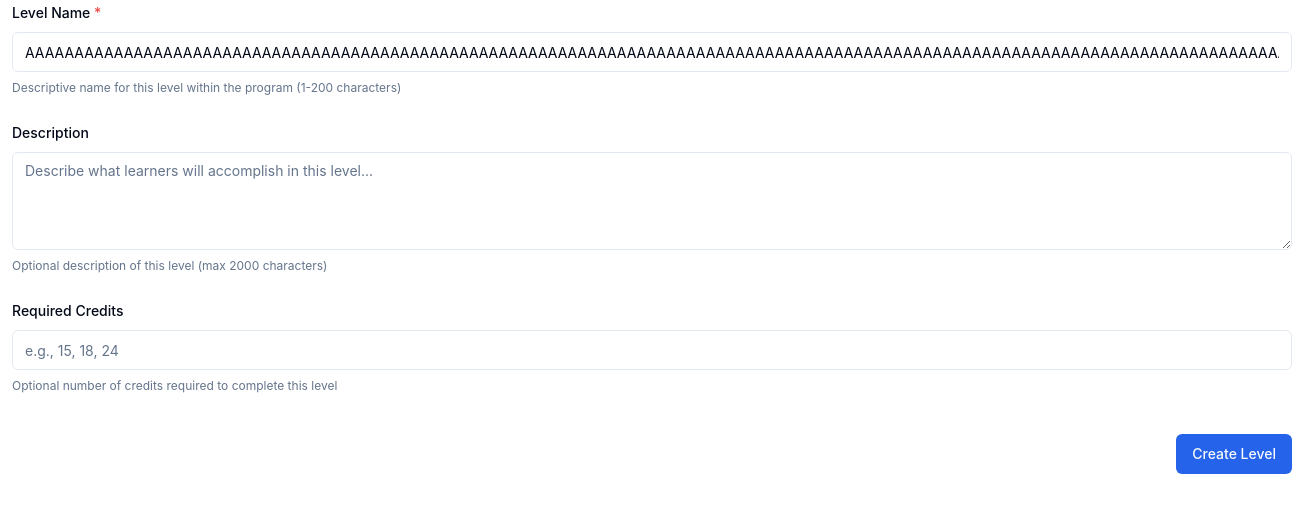
Scenario: ProgramLevelForm › Form Validation › should validate name max length (200 characters)
Click the button "Create Level": [1234, 454] box [1176,434,1292,474]
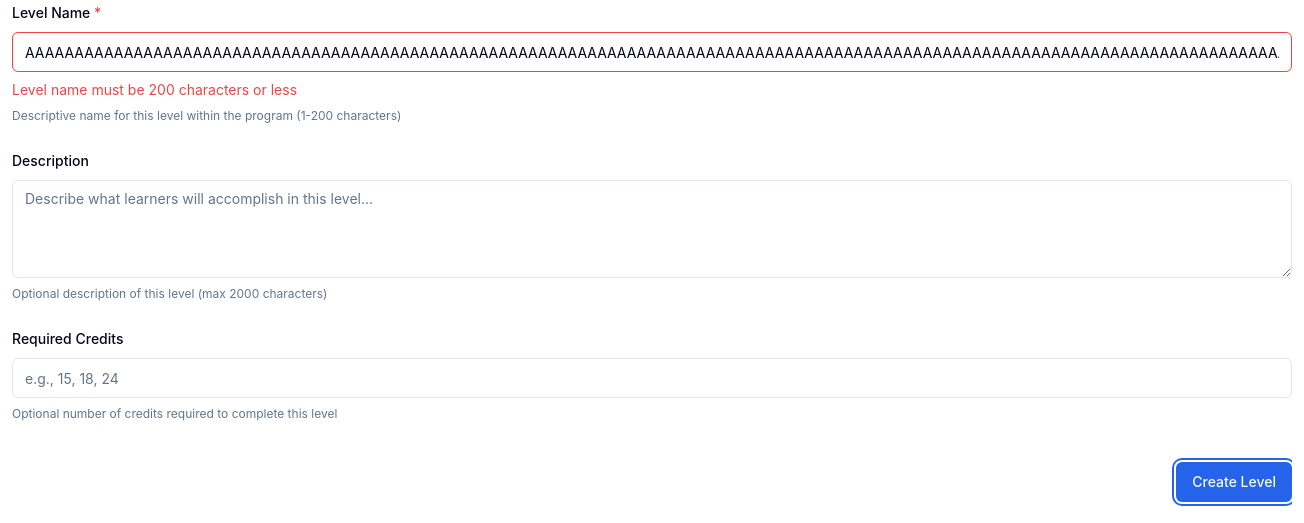
Expected: the text "Level name must be 200 characters or less" is shown, [12,81,297,98]
